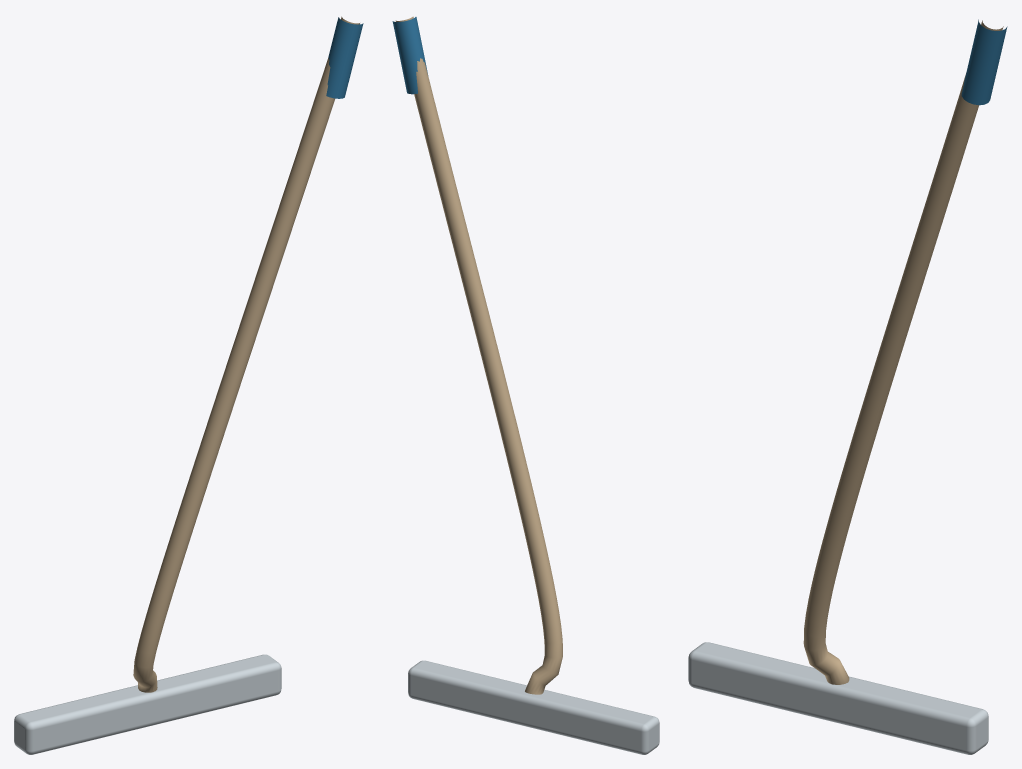
Rendered from curling-club-and-ice-maintenance-hand-ice-scraper-26181658__31291.glb.
3 renders of one model, left to right at view 1: azimuth 30°, elevation 25°; view 2: azimuth 150°, elevation 25°; view 3: azimuth 330°, elevation 25°, orthographic. The views are drawn at different scales.
Parts seen in each view (by area): view 1: hand-ice-scraper; view 2: hand-ice-scraper; view 3: hand-ice-scraper.
Boxes of the visible parts, x1,y1,x2,y2 form: hand-ice-scraper: (14, 16, 363, 754); hand-ice-scraper: (392, 16, 659, 754); hand-ice-scraper: (688, 19, 1007, 754).
Bounding box in the file's own units: 0.5444 × 1.15 × 0.145.
